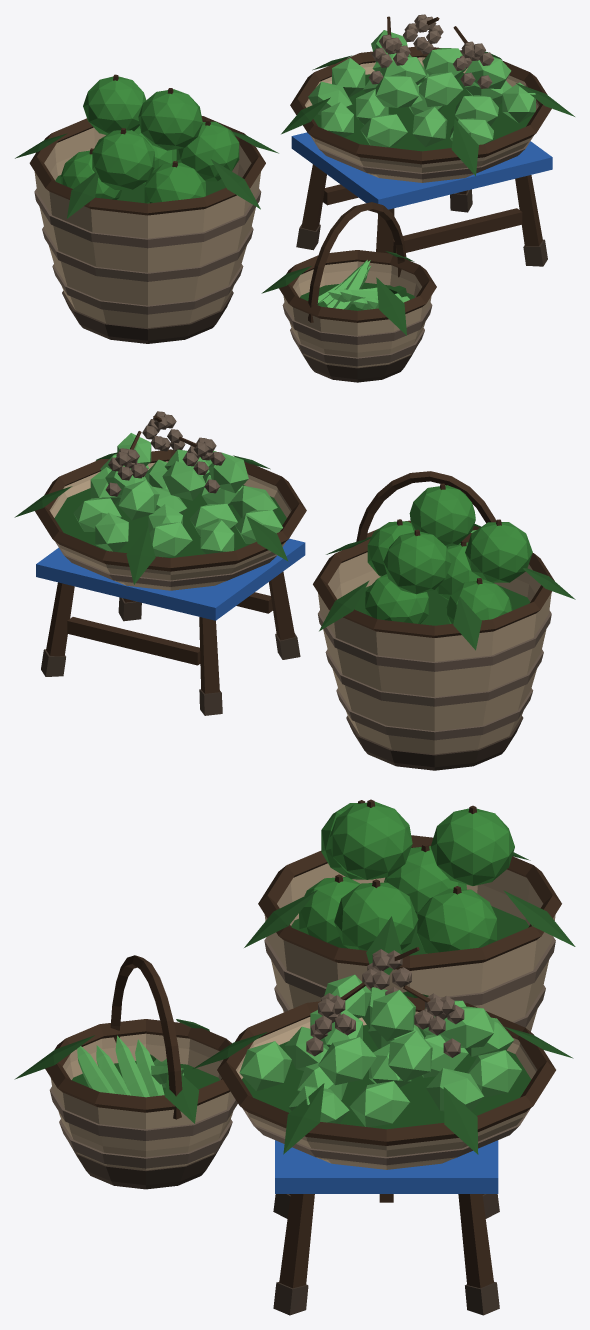
3 renders of one model, top to bottom at view 1: azimuth 30°, elevation 25°; view 2: azimuth 150°, elevation 25°; view 3: azimuth 270°, elevation 25°, orthographic. The views are drawn at different scales.
Visible parts, largest first — view 1: deep_basket-bright-boat-colours, pomelos-palm-green, mangoes-palm-green-light, linings-palm-green-dark, deep_basket-muddy-brown-light, stool-sky-blue, stool-dark-wood, handle_basket-bright-boat-colours, handle_basket-dark-wood, tray_basket-dark-wood, deep_basket-dark-wood, longans-muddy-brown-light (+7 smaller); view 2: deep_basket-bright-boat-colours, pomelos-palm-green, mangoes-palm-green-light, linings-palm-green-dark, stool-dark-wood, deep_basket-muddy-brown-light, stool-sky-blue, tray_basket-dark-wood, deep_basket-dark-wood, tray_basket-bright-boat-colours, longans-muddy-brown-light, deep_basket-muddy-brown (+3 smaller); view 3: pomelos-palm-green, mangoes-palm-green-light, linings-palm-green-dark, deep_basket-bright-boat-colours, handle_basket-bright-boat-colours, tray_basket-dark-wood, stool-sky-blue, handle_basket-dark-wood, deep_basket-dark-wood, stool-dark-wood, tray_basket-bright-boat-colours, longans-muddy-brown-light (+6 smaller).
Boxes of the visible parts, x1,y1,x2,y2 form: deep_basket-bright-boat-colours: [34, 127, 260, 327]; pomelos-palm-green: [60, 76, 239, 203]; mangoes-palm-green-light: [308, 30, 535, 147]; linings-palm-green-dark: [15, 51, 574, 335]; deep_basket-muddy-brown-light: [34, 188, 261, 314]; stool-sky-blue: [291, 132, 552, 209]; stool-dark-wood: [301, 164, 542, 253]; handle_basket-bright-boat-colours: [283, 261, 431, 367]; handle_basket-dark-wood: [279, 202, 436, 322]; tray_basket-dark-wood: [290, 46, 551, 164]; deep_basket-dark-wood: [29, 116, 265, 215]; longans-muddy-brown-light: [368, 14, 494, 88]; deep_basket-bright-boat-colours: [318, 552, 551, 754]; pomelos-palm-green: [365, 485, 532, 623]; mangoes-palm-green-light: [73, 433, 282, 557]; linings-palm-green-dark: [14, 452, 575, 650]; stool-dark-wood: [46, 571, 295, 693]; deep_basket-muddy-brown-light: [318, 610, 551, 740]; stool-sky-blue: [36, 538, 305, 620]; tray_basket-dark-wood: [35, 449, 306, 571]; deep_basket-dark-wood: [313, 533, 554, 637]; tray_basket-bright-boat-colours: [49, 461, 291, 590]; longans-muddy-brown-light: [105, 411, 225, 496]; deep_basket-muddy-brown: [346, 715, 523, 770]; pomelos-palm-green: [299, 801, 514, 953]; mangoes-palm-green-light: [239, 974, 521, 1127]; linings-palm-green-dark: [14, 852, 575, 1154]; deep_basket-bright-boat-colours: [264, 863, 555, 1031]; handle_basket-bright-boat-colours: [51, 1033, 234, 1170]; tray_basket-dark-wood: [217, 996, 555, 1145]; stool-sky-blue: [275, 1140, 498, 1193]; handle_basket-dark-wood: [45, 955, 231, 1119]; deep_basket-dark-wood: [258, 835, 561, 970]; stool-dark-wood: [279, 1194, 493, 1288]; tray_basket-bright-boat-colours: [236, 1011, 537, 1169]; longans-muddy-brown-light: [306, 949, 464, 1057].
Bounding box in the file's own units: 1.24 × 0.566 × 0.9572.
